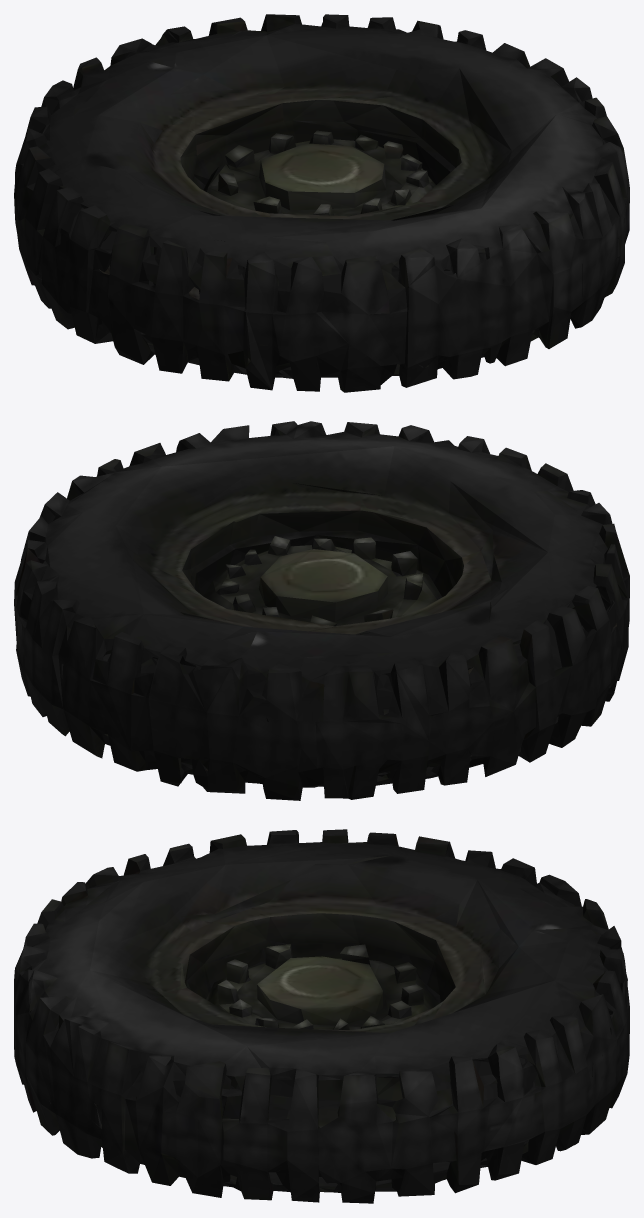
The model's file is tyre.glb.
3 renders of one model, top to bottom at view 1: azimuth 30°, elevation 25°; view 2: azimuth 150°, elevation 25°; view 3: azimuth 270°, elevation 25°, orthographic.
Visible parts, largest first — view 1: world; view 2: world; view 3: world.
Boxes of the visible parts, left/top/right/bottom form: world: left=14, top=14, right=629, bottom=392; world: left=14, top=421, right=629, bottom=800; world: left=14, top=829, right=629, bottom=1203.
Size of the model in its own units: 0.9892 by 0.2487 by 0.9926.
Materials: 1 (1 with a texture image).
